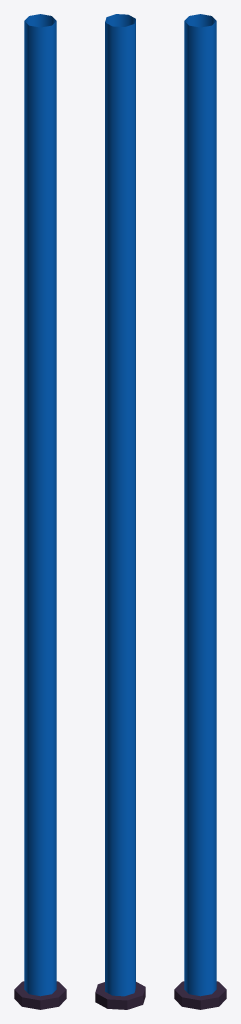
The model's file is Tap_Full_.fbx.
3 views of the same model, side by side, from view 1: azimuth 90°, elevation 25°; view 2: azimuth 150°, elevation 25°; view 3: azimuth 270°, elevation 25° (orthographic).
Visible parts, largest first — view 1: Cylinder006; view 2: Cylinder006; view 3: Cylinder006.
Boxes of the visible parts, x1,y1,x2,y2 form: Cylinder006: (14, 14, 66, 1009); Cylinder006: (95, 14, 145, 1009); Cylinder006: (174, 14, 226, 1009).
Size of the model in its own units: 0.1093 by 2.26 by 0.1093.
